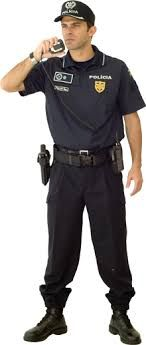gun: (32, 135, 69, 210)
uniform: (20, 38, 127, 318)
